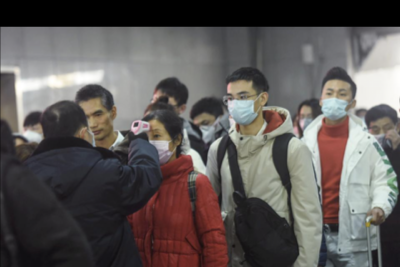with_mask: (142, 127, 174, 167), (226, 89, 260, 126), (321, 86, 353, 121), (370, 120, 396, 148), (191, 117, 217, 143), (21, 124, 43, 146), (299, 111, 313, 130)
without_mask: (84, 107, 111, 140)
